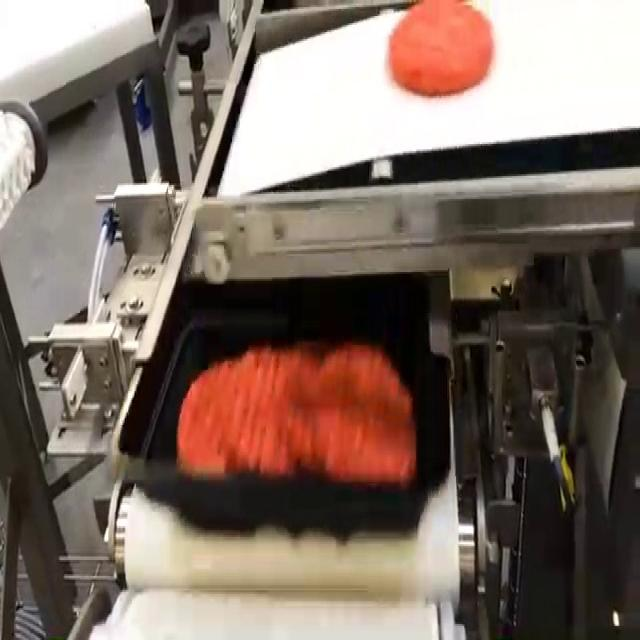hamburguer: (390, 0, 493, 94)
